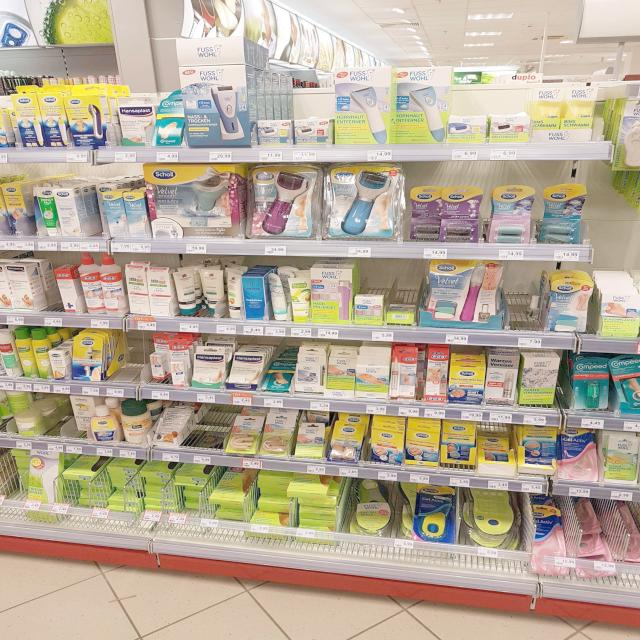empty_space: (508, 265, 542, 323)
